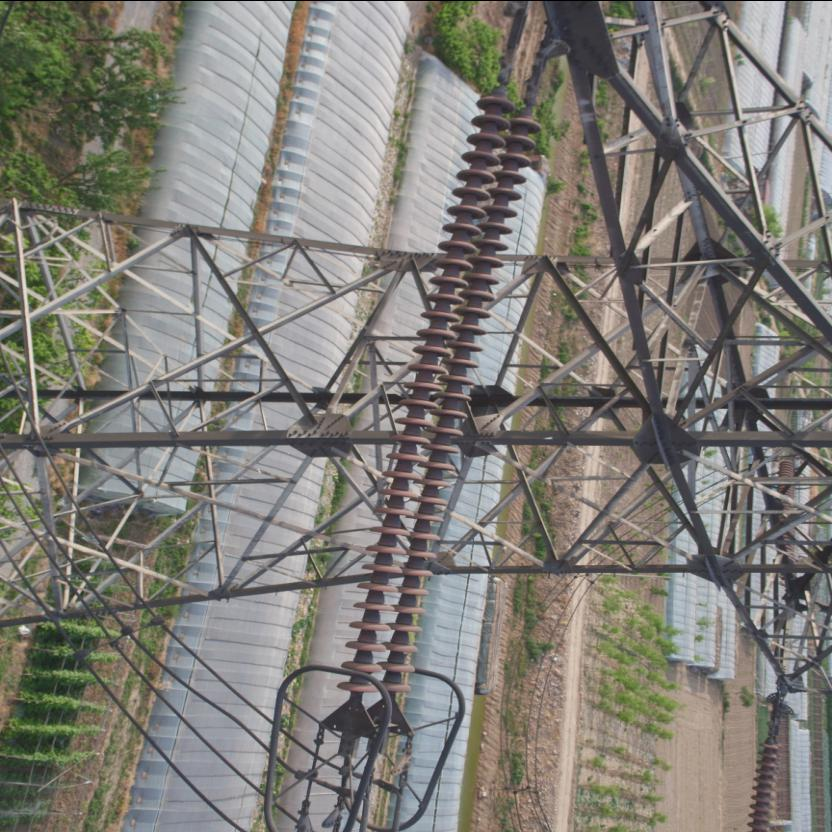insulator: (334, 62, 546, 712)
